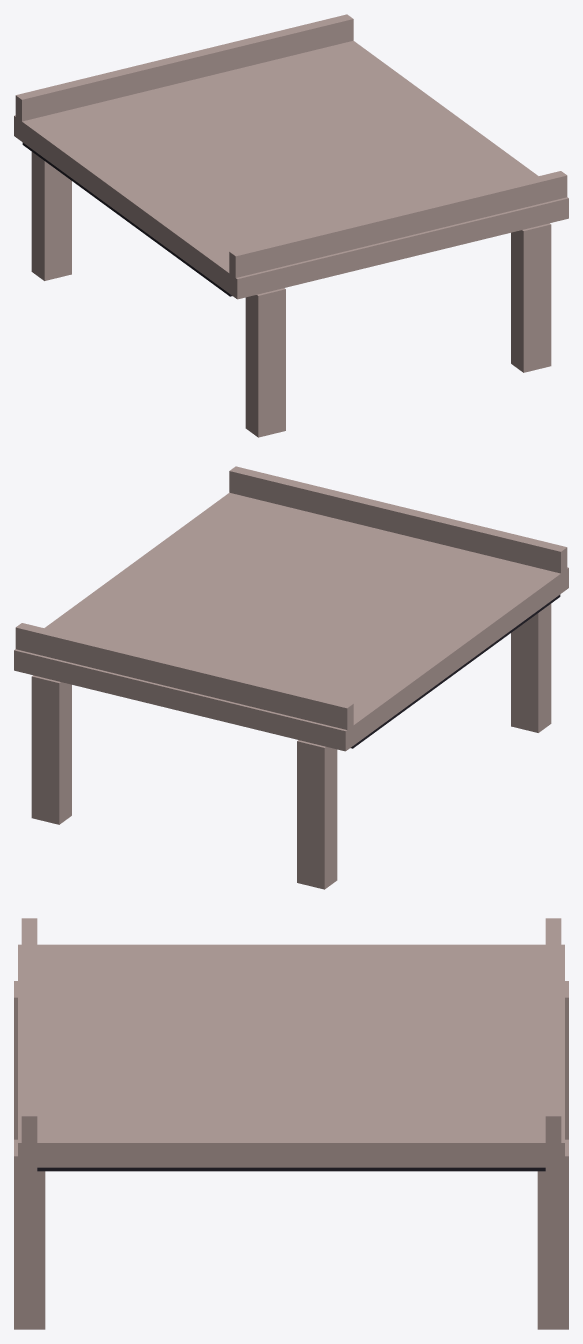
File: prop.l10-underpass.glb
3 views of the same model, one above another, from view 1: azimuth 30°, elevation 25°; view 2: azimuth 150°, elevation 25°; view 3: azimuth 270°, elevation 25° (orthographic). The views are drawn at different scales.
Visible parts, largest first — view 1: body; view 2: body; view 3: body.
Part boxes in pixels (bbox=[...]): body: bbox=[14, 14, 568, 437]; body: bbox=[14, 466, 568, 889]; body: bbox=[14, 918, 568, 1329].
Bounding box in the file's own units: 12 × 6.35 × 14.2.
